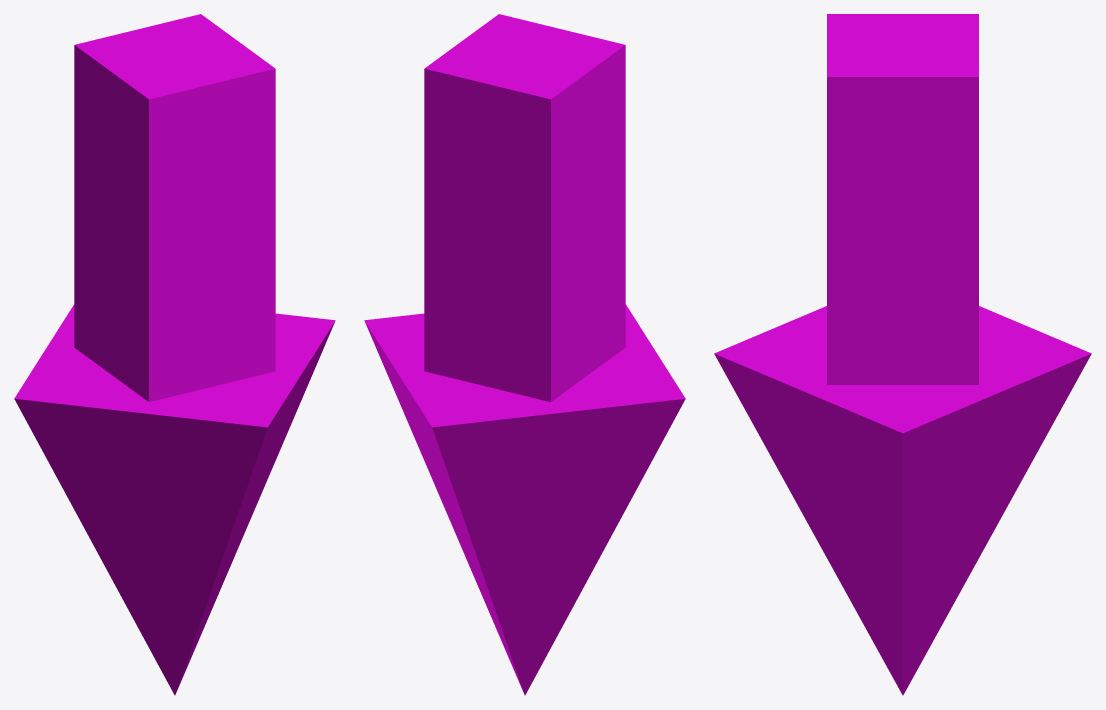
File: pink arrow.fbx
3 views of the same model, side by side, from view 1: azimuth 30°, elevation 25°; view 2: azimuth 150°, elevation 25°; view 3: azimuth 270°, elevation 25° (orthographic).
Parts seen in each view (by area): view 1: pCube1, pCone1; view 2: pCube1, pCone1; view 3: pCone1, pCube1.
Part boxes in pixels (<box>): pCube1: <box>74,14,275,401</box>; pCone1: <box>14,304,335,695</box>; pCube1: <box>424,14,625,401</box>; pCone1: <box>364,304,685,695</box>; pCone1: <box>714,306,1091,695</box>; pCube1: <box>827,14,978,384</box>.
Size of the model in its own units: 2.49 by 4.73 by 2.49.
